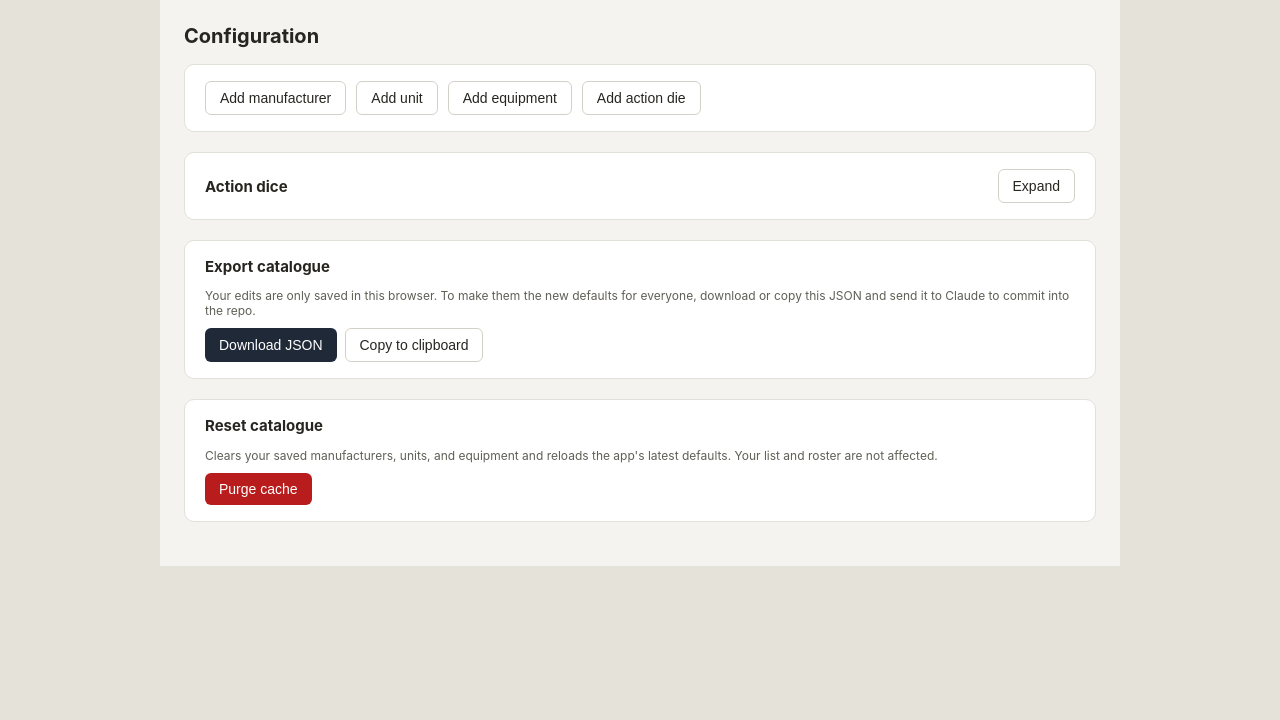
Test: ManagePage › adds a new manufacturer and a free Standard Movement item for it
The image size is (1280, 720).
Click the button "Add manufacturer" at x=276, y=98, box [205,81,346,115]
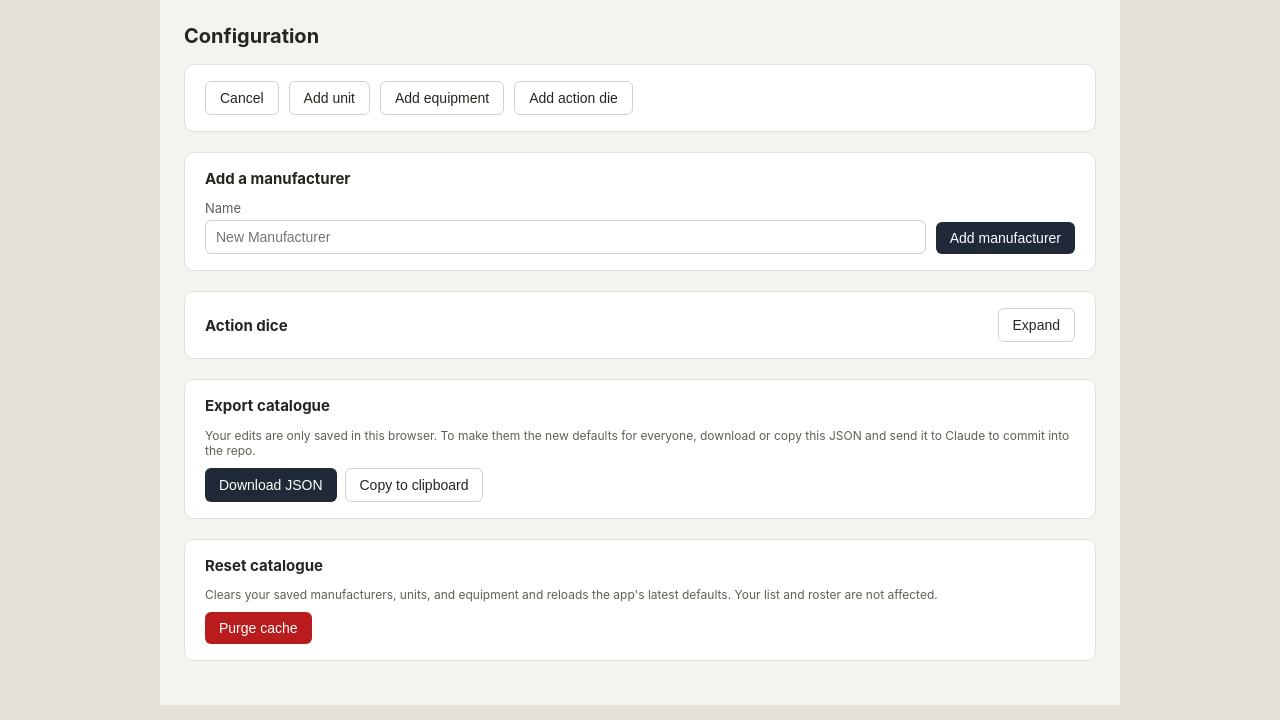
Type "Test Manufacturer" into the field labelled "Name" at x=565, y=237, box [205,220,926,254]
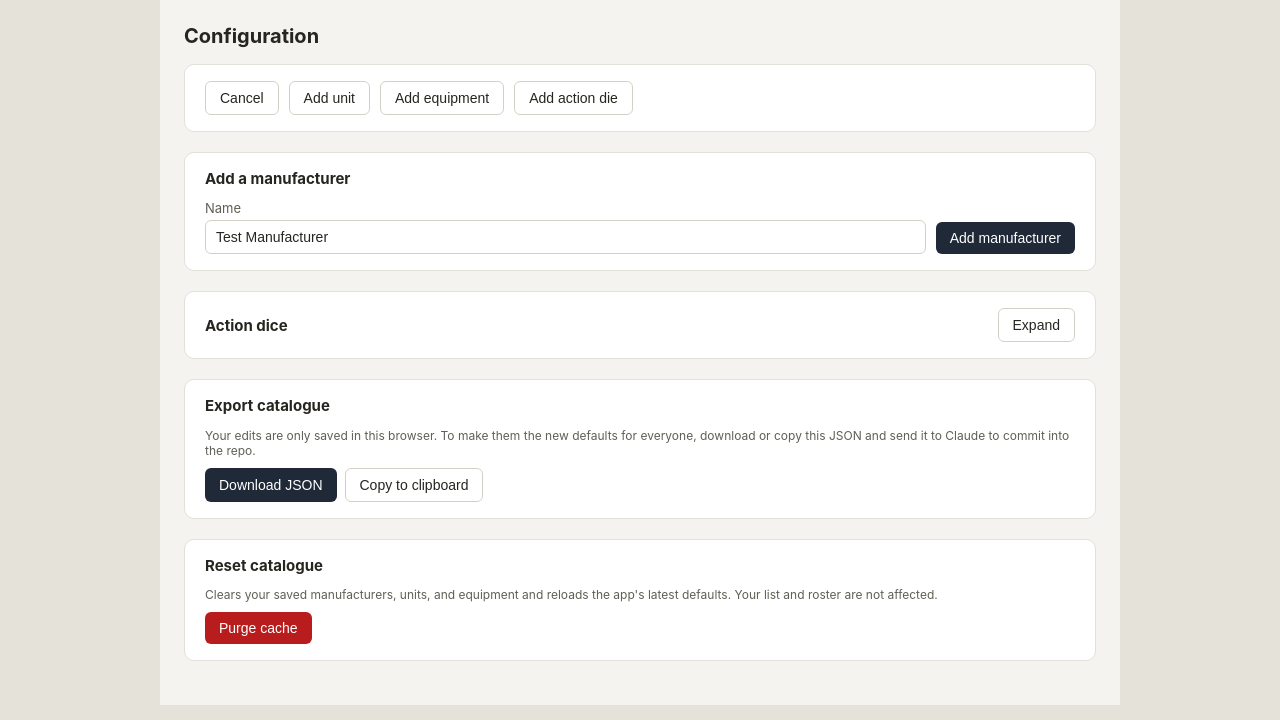
Click the button "Add manufacturer" at x=1005, y=238, box [936,222,1075,254]
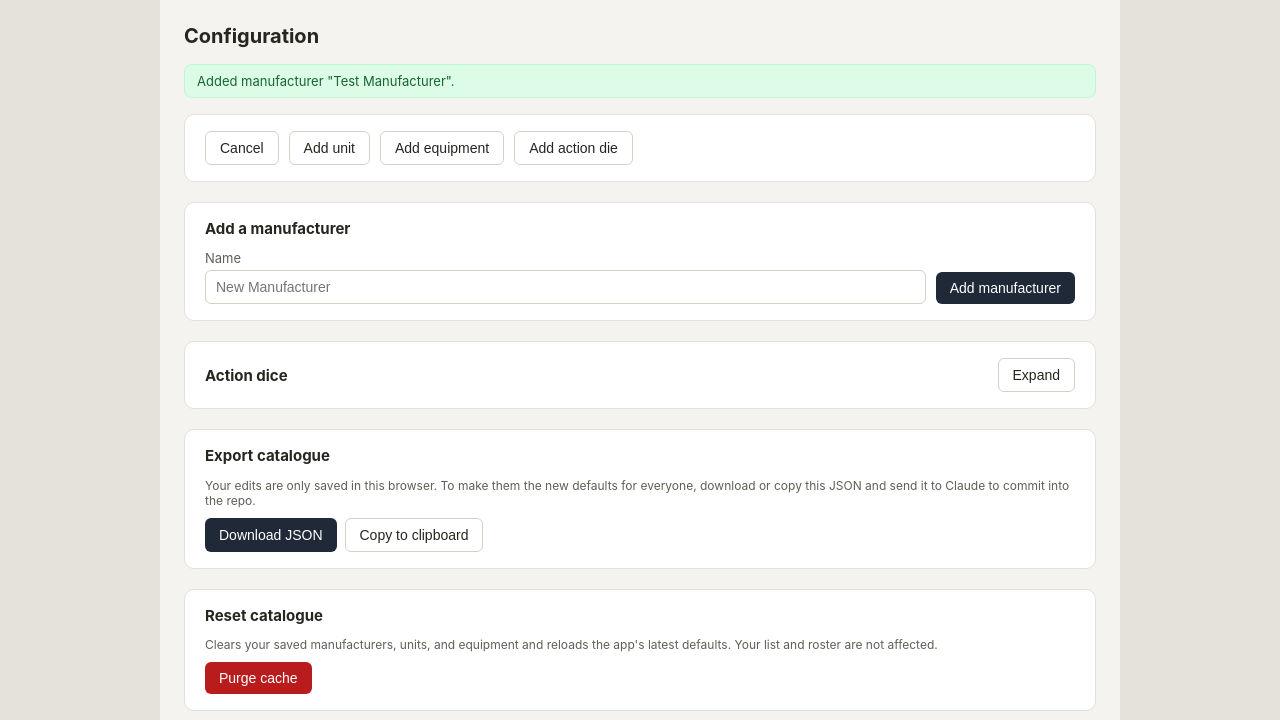
Now the text "Added manufacturer \"Test Manufacturer\"." is shown, box [184,64,1096,98]
